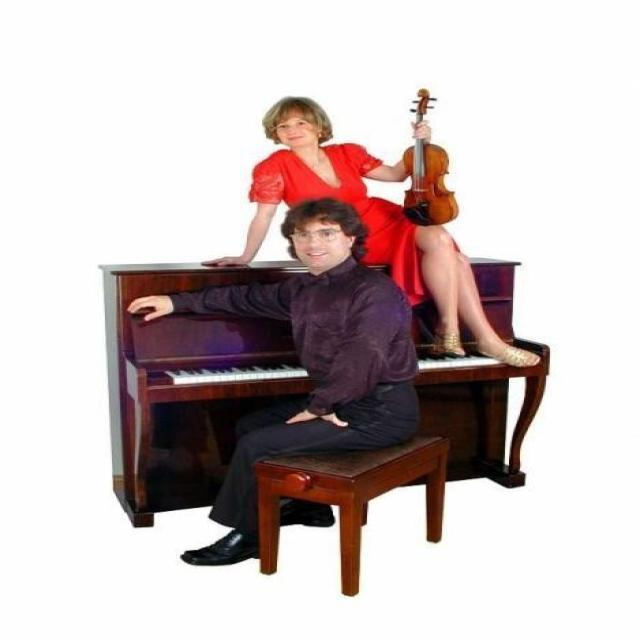violin: (396, 87, 466, 226)
